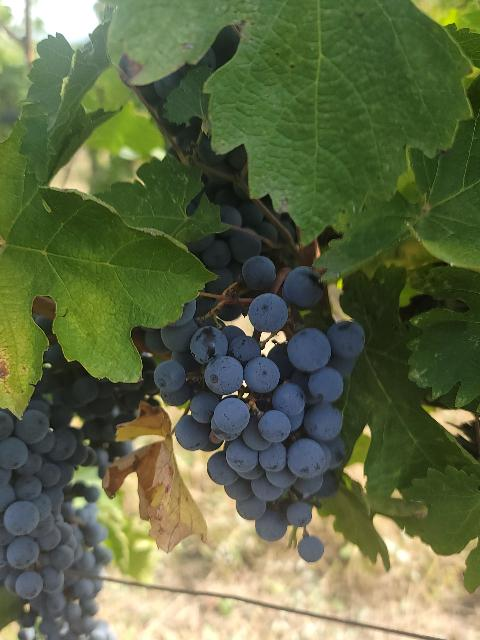grapes: (154, 298, 365, 541), (0, 396, 76, 591), (240, 268, 321, 339)
